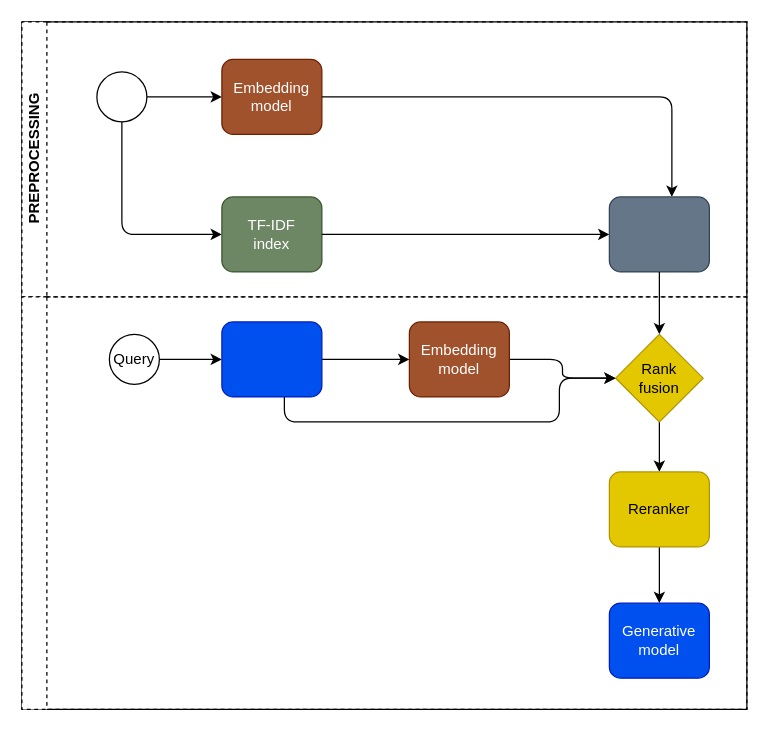
The diagram is 769 pixels wide and 731 high, and some of its shapes have lost their labels. Here are the shapes that lost their labels. From the top down, the box of each, then its label:
(96, 71, 147, 122): CSV
(608, 196, 709, 272): Postgre SQL
(221, 321, 322, 397): Query rephasing
(21, 296, 747, 709): RUNTIME
